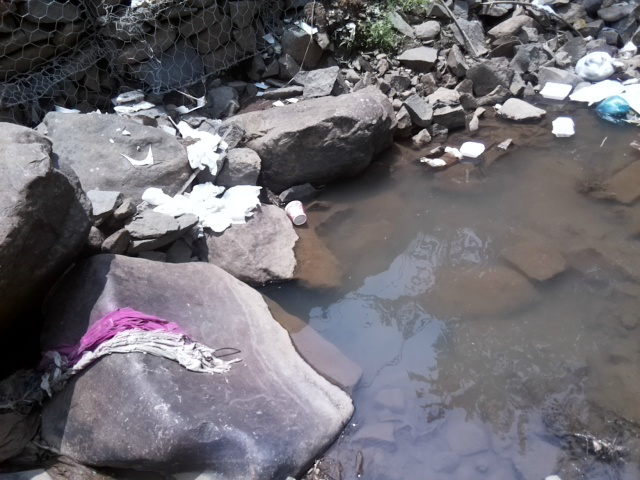Sampah_Plastik: (140, 181, 269, 225), (179, 123, 226, 173), (573, 52, 621, 79), (598, 96, 632, 126)
Sampah_Styrofoam: (569, 80, 626, 103), (451, 139, 487, 161), (548, 114, 578, 139), (537, 81, 577, 98)
